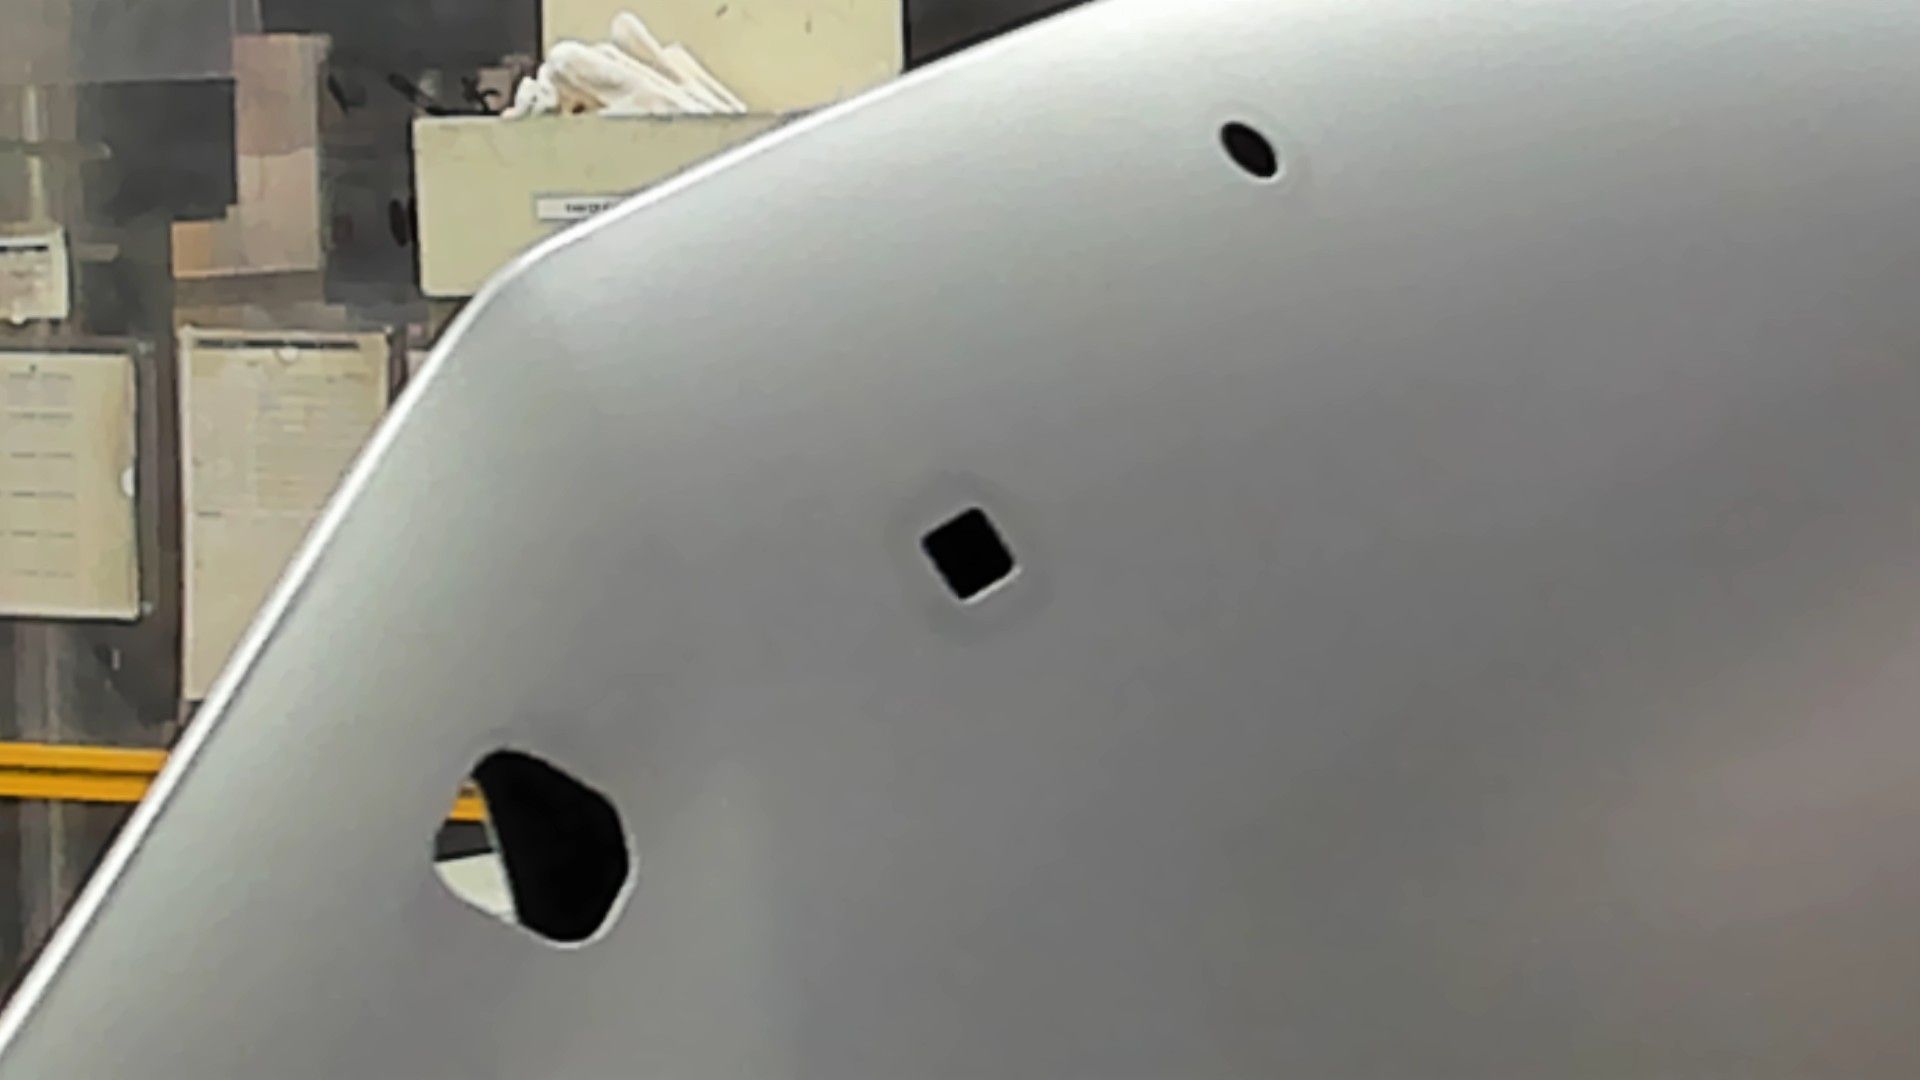chico: (1216, 117, 1284, 183)
grande: (419, 740, 640, 953)
mediano: (907, 498, 1030, 608)
